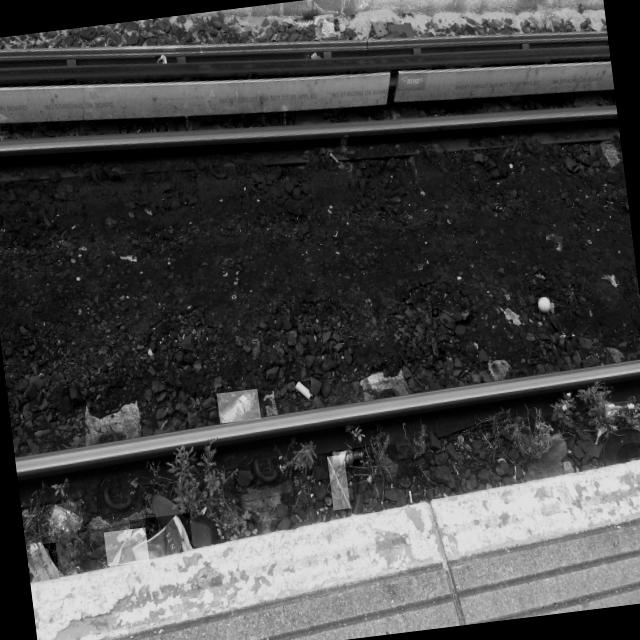Cigarette: (409, 491, 412, 502)
Clear plastic bottle: (220, 389, 258, 423), (331, 449, 362, 467)
Glass bottle: (605, 402, 633, 416)
Other plastic: (49, 504, 83, 531)
Other plastic bottle: (296, 381, 311, 399), (538, 297, 550, 312)
Paper: (27, 544, 59, 582)
Paper bag: (133, 514, 193, 561), (109, 528, 146, 566), (314, 16, 335, 37)
Pop tab: (253, 339, 257, 342)
Straw: (327, 456, 350, 508)
Unlabeled litter: (27, 542, 41, 557), (156, 55, 166, 63), (311, 53, 320, 58), (432, 309, 438, 316), (323, 514, 326, 521), (339, 486, 344, 490)
